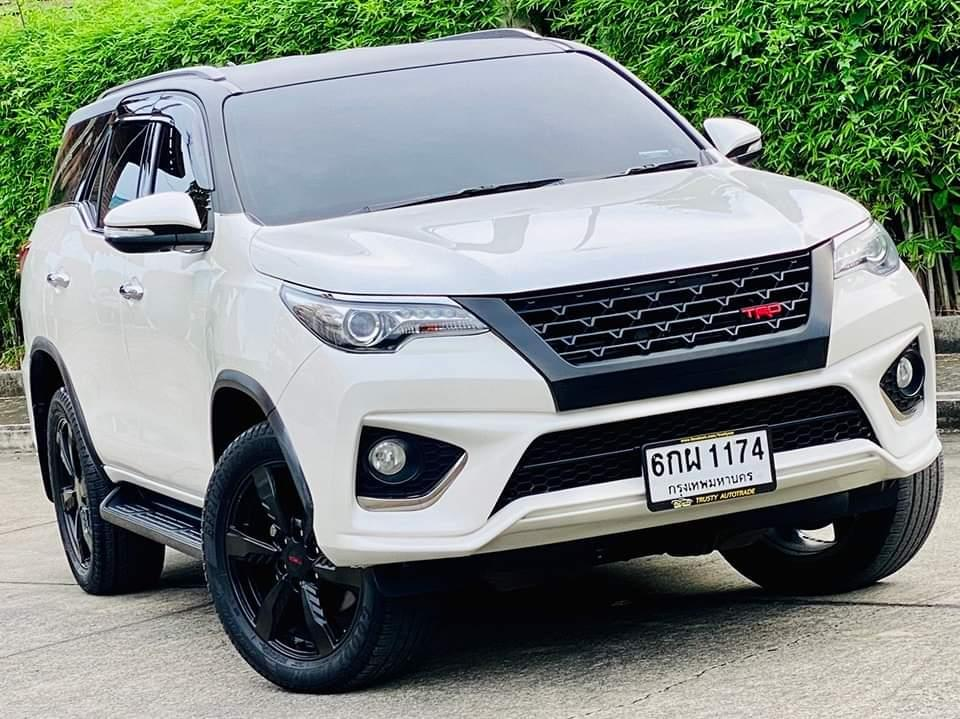license-plate: (639, 420, 780, 513)
